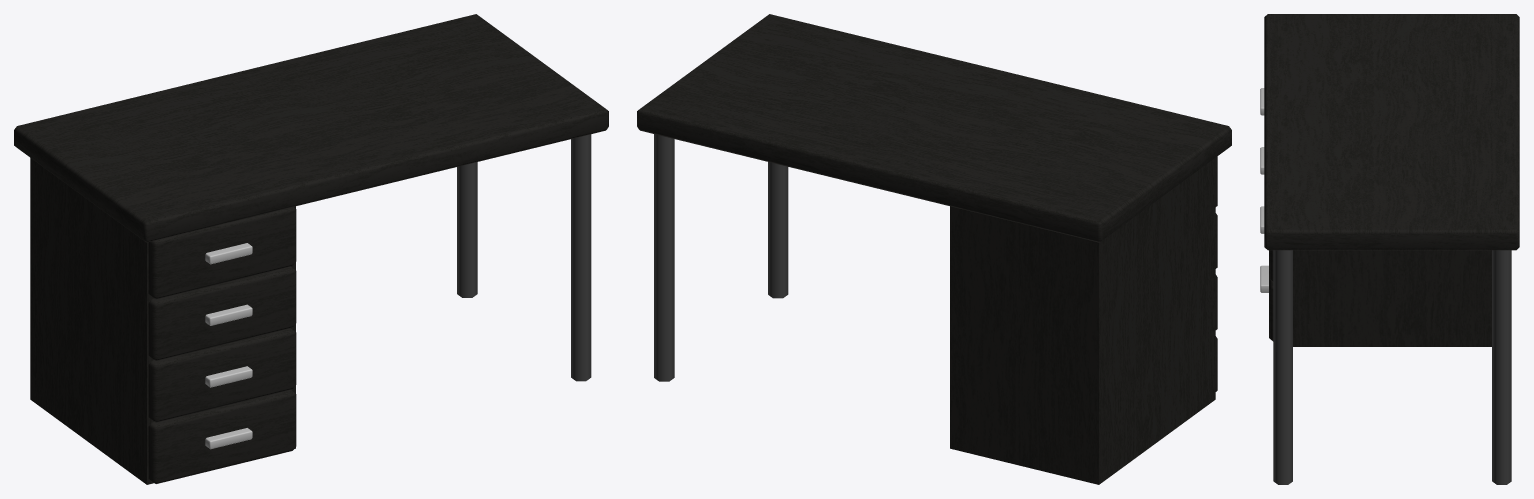
File: work_table_002.fbx
The picture shows the model from 3 angles, left to right: view 1: azimuth 30°, elevation 25°; view 2: azimuth 150°, elevation 25°; view 3: azimuth 270°, elevation 25°; orthographic projection. The views are drawn at different scales.
Parts seen in each view (by area): view 1: work_table_002; view 2: work_table_002; view 3: work_table_002.
Boxes of the visible parts, left/top/right/bottom form: work_table_002: left=14, top=14, right=608, bottom=484; work_table_002: left=637, top=14, right=1231, bottom=484; work_table_002: left=1260, top=14, right=1519, bottom=484.
Size of the model in its own units: 165 by 82.83 by 91.5.
